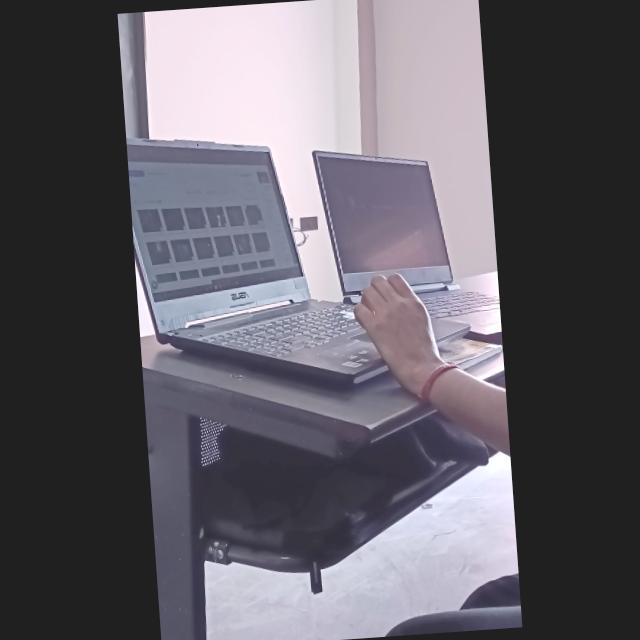laptop: (128, 137, 418, 449), (312, 134, 500, 303)
